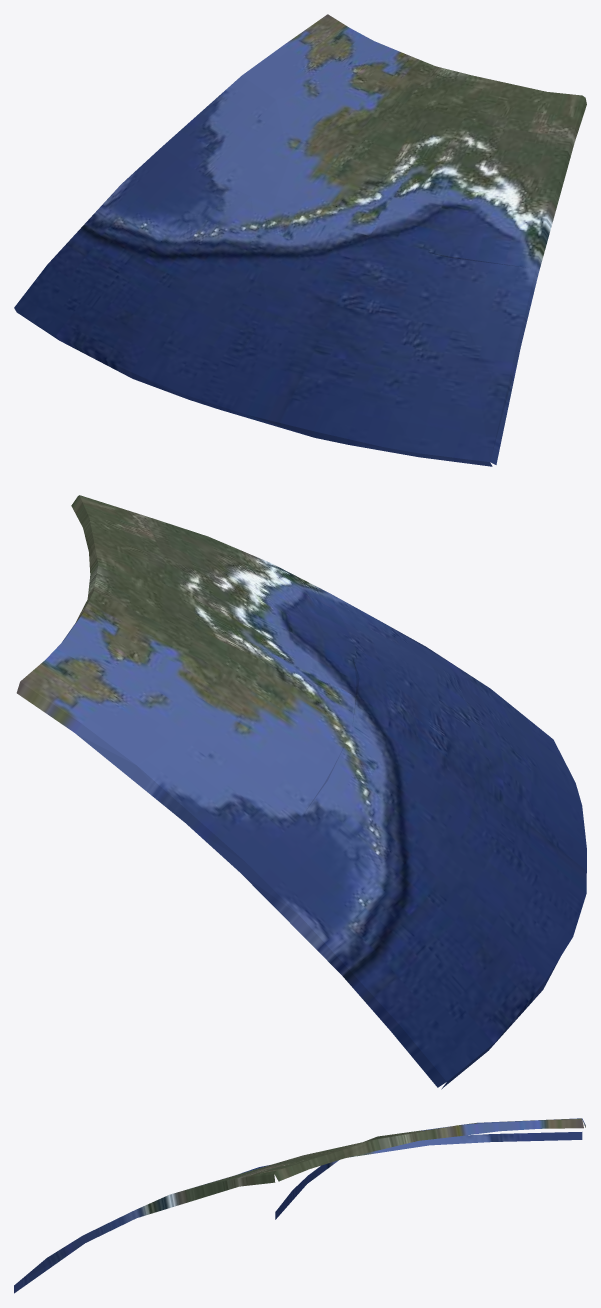
3 views of the same model, one above another, from view 1: azimuth 30°, elevation 25°; view 2: azimuth 150°, elevation 25°; view 3: azimuth 270°, elevation 25° (orthographic). The views are drawn at different scales.
Bounding box in the file's own units: 2826882 × 1445546 × 3224929.
1 material, 1 textured.
